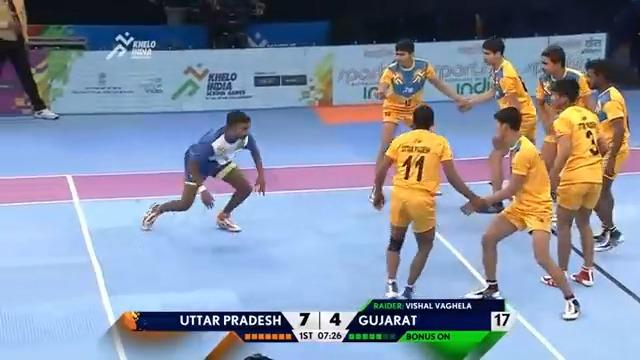Player: (459, 106, 581, 320), (369, 103, 484, 299), (368, 38, 470, 206), (540, 78, 609, 287), (457, 36, 537, 213), (582, 57, 630, 251), (534, 43, 595, 173)
Raider: (140, 108, 266, 233)
referee: (0, 0, 59, 120), (206, 0, 268, 48), (604, 0, 639, 85)
